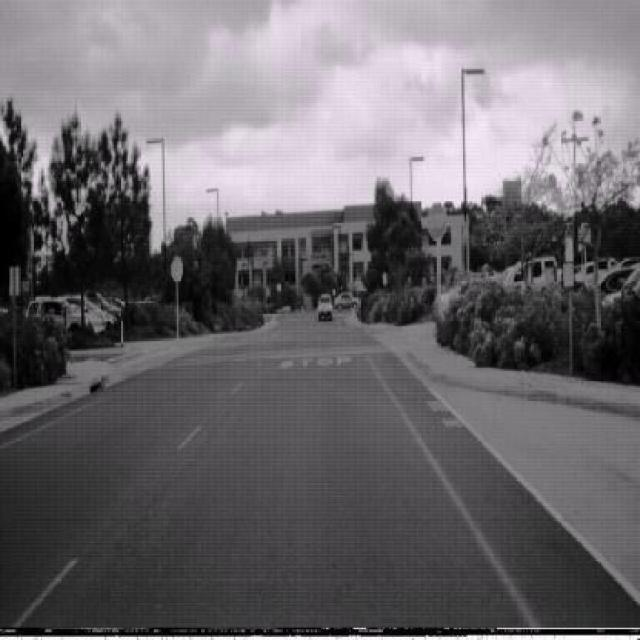stop: (428, 202, 448, 240)
